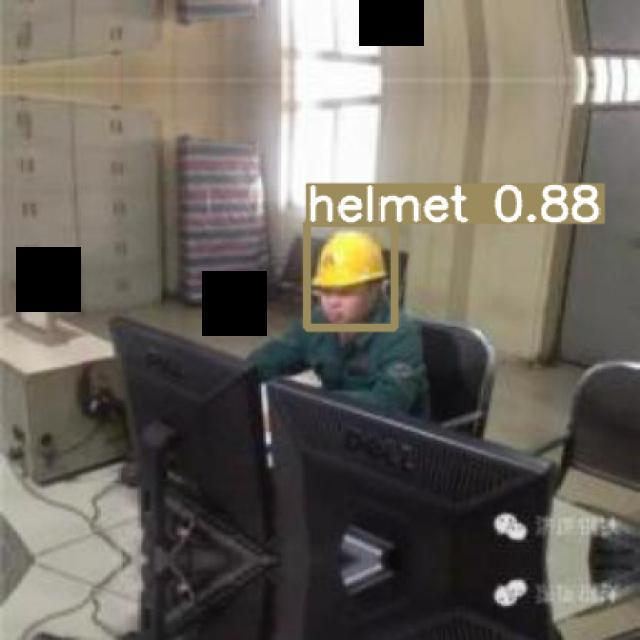helmet: (310, 229, 388, 289)
